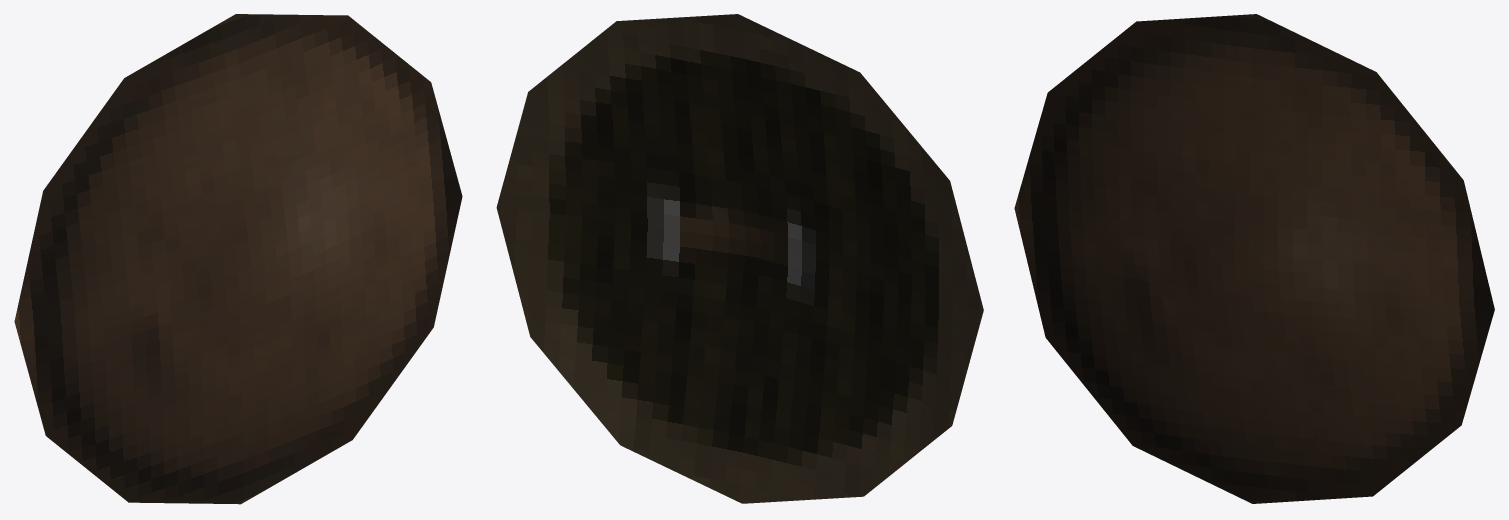
The picture shows the model from 3 angles, left to right: view 1: azimuth 30°, elevation 25°; view 2: azimuth 150°, elevation 25°; view 3: azimuth 330°, elevation 25°; orthographic projection.
Parts seen in each view (by area): view 1: it206; view 2: it206; view 3: it206.
Part boxes in pixels (x1,y1,x2,y2): it206: (14,14,462,504); it206: (496,14,983,503); it206: (1014,14,1494,503).
Size of the model in its own units: 2.38 by 2.39 by 0.2498.
2 materials, 2 textured.
